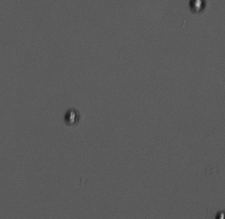Dead Cell: (63, 106, 79, 124)
Living Cell: (188, 1, 207, 15)
